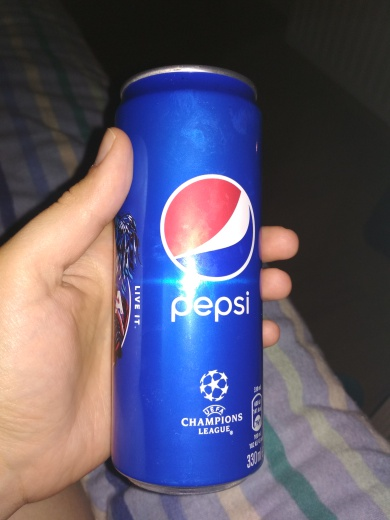pepsi: (98, 53, 267, 498)
